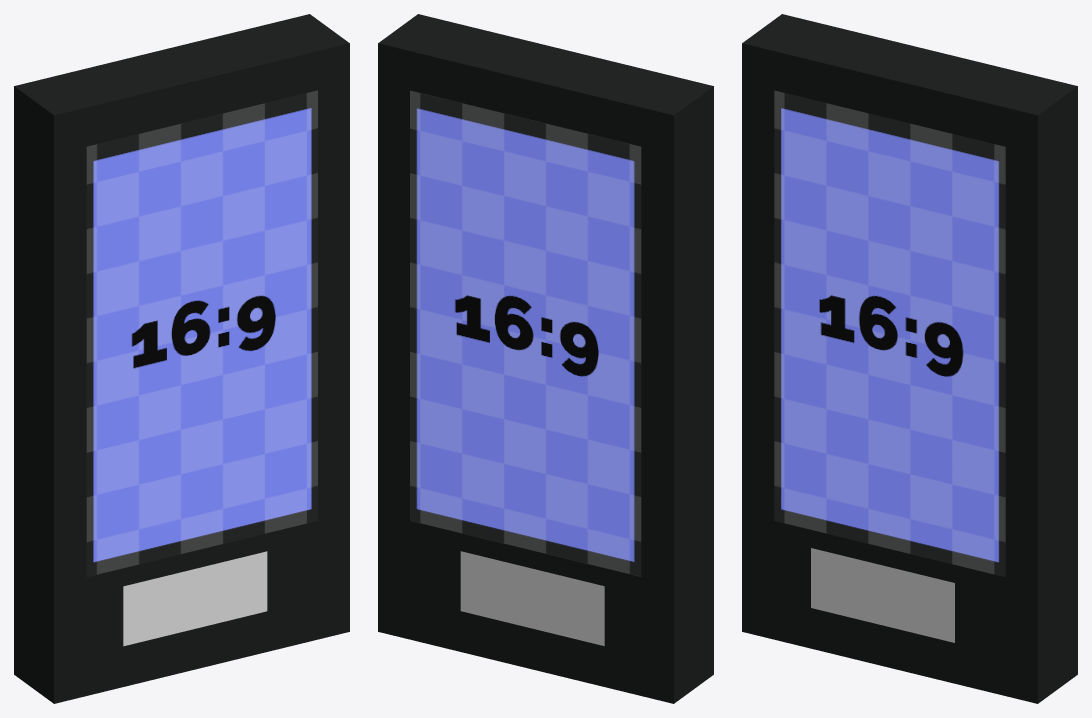
File: stand.glb
3 views of the same model, side by side, from view 1: azimuth 30°, elevation 25°; view 2: azimuth 150°, elevation 25°; view 3: azimuth 330°, elevation 25° (orthographic).
Visible parts, largest first — view 1: barlogo.007; view 2: barlogo.007; view 3: barlogo.007.
Part boxes in pixels (left/top/right/bottom): barlogo.007: left=14, top=14, right=349, bottom=703; barlogo.007: left=378, top=14, right=713, bottom=703; barlogo.007: left=742, top=14, right=1077, bottom=703.
Size of the model in its own units: 2.28 by 4.34 by 0.5417.
4 materials, 3 textured.
